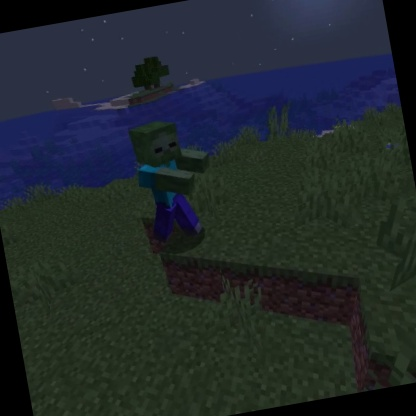zombie: (122, 110, 225, 250)
